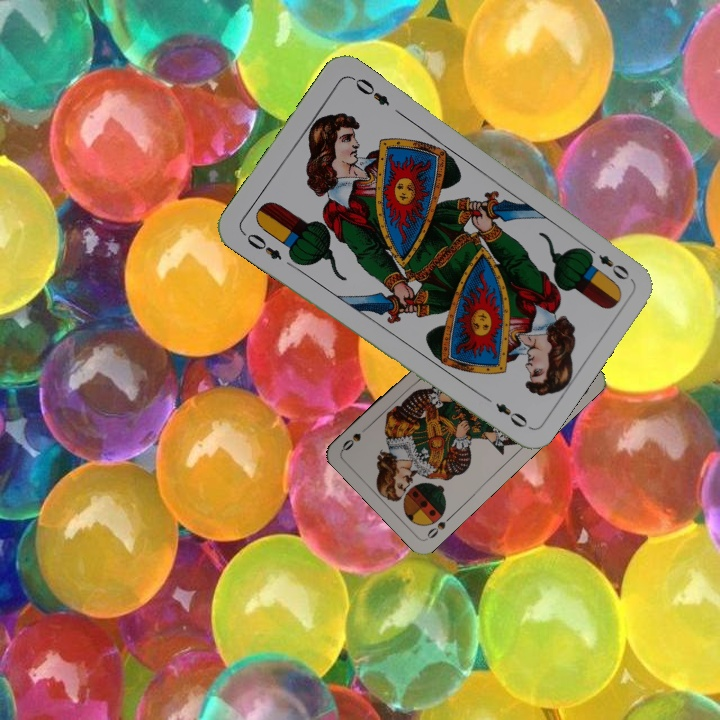EO: (580, 242, 633, 283), (238, 228, 285, 263)
SO: (423, 511, 455, 541)
